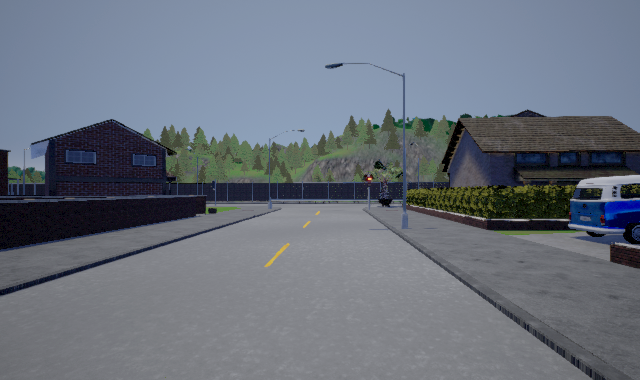vehicle: (568, 175, 640, 244)
